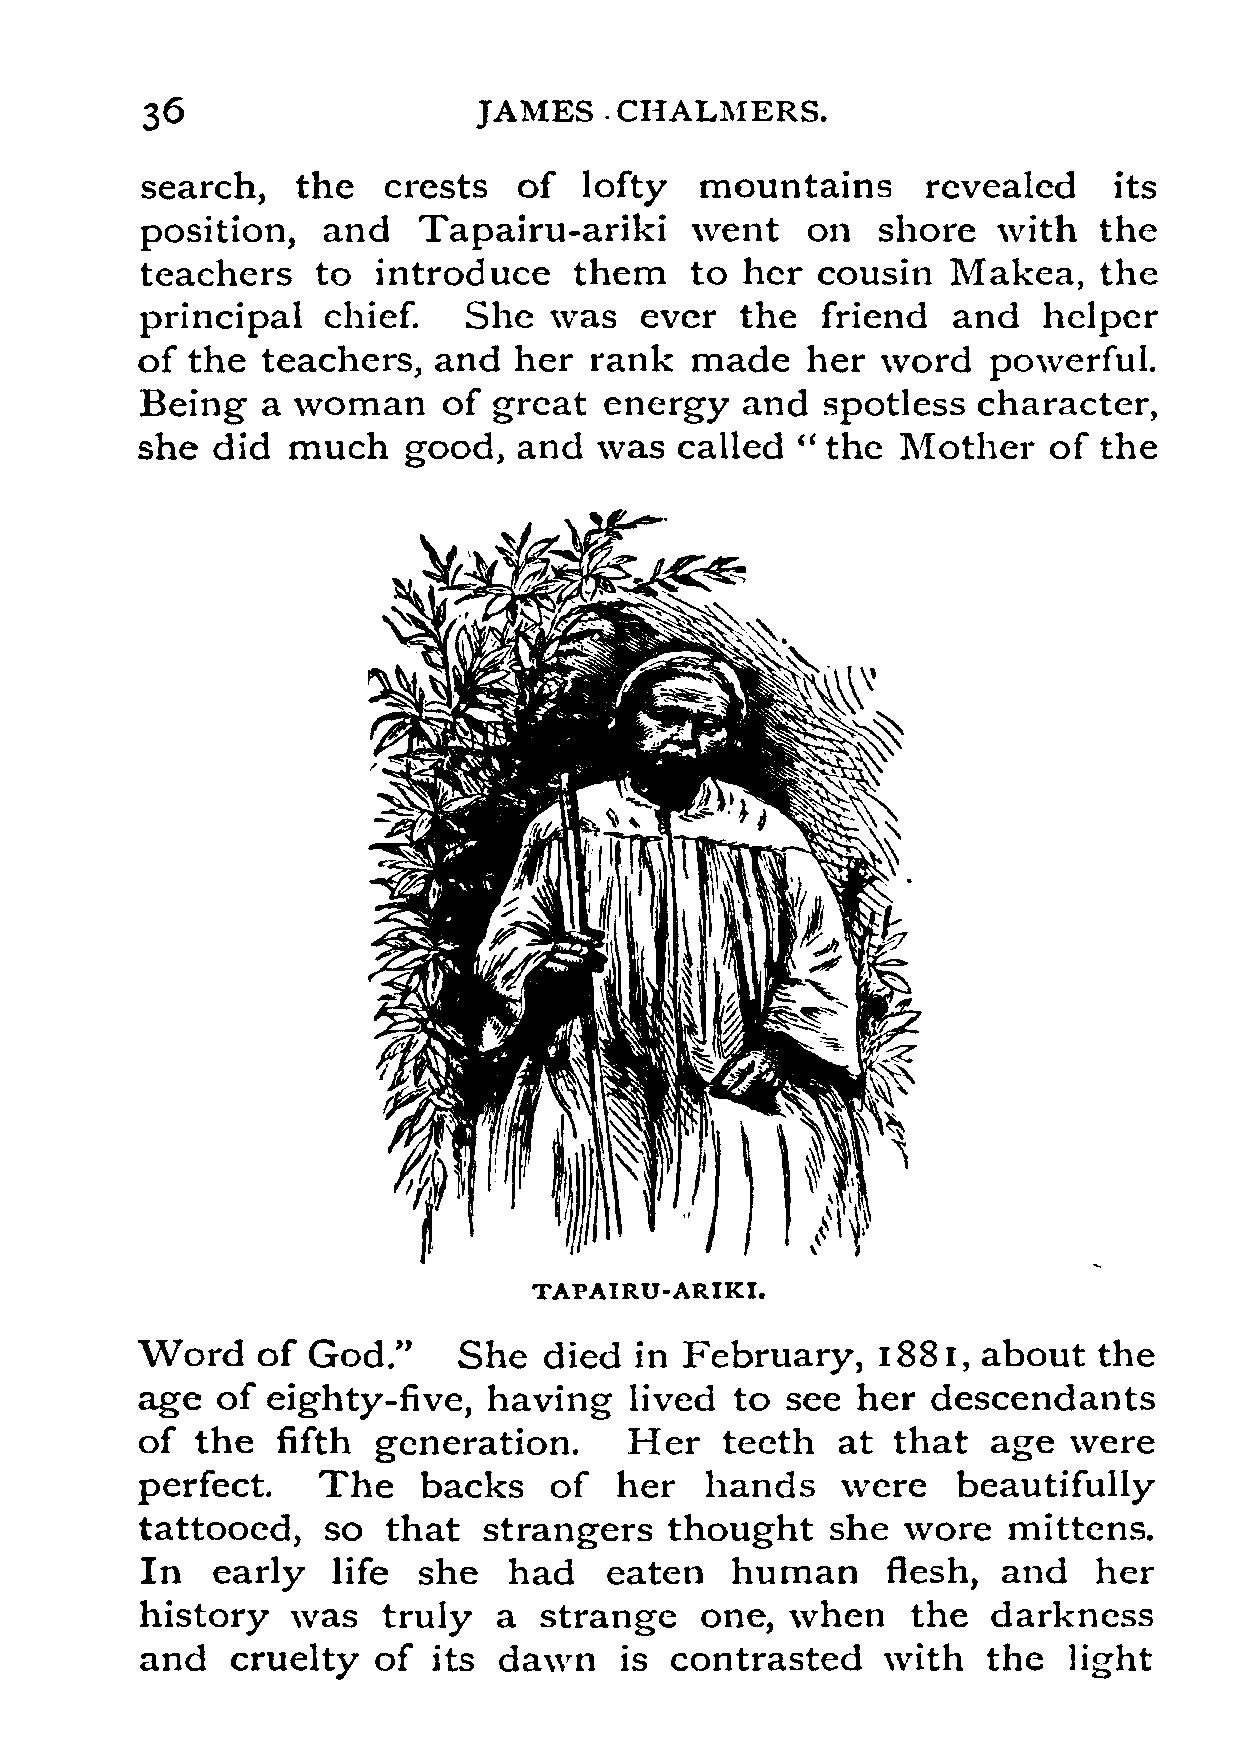content: (132, 169, 1162, 1686)
content_chapter: (464, 97, 831, 129)
content_pagenumber: (136, 86, 187, 136)
